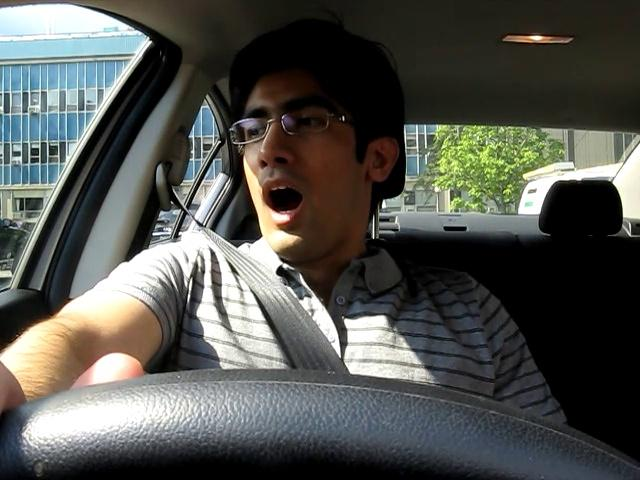open_eyeL: (231, 114, 272, 147)
open_eyeR: (286, 105, 343, 137)
yawn: (252, 175, 322, 226)
